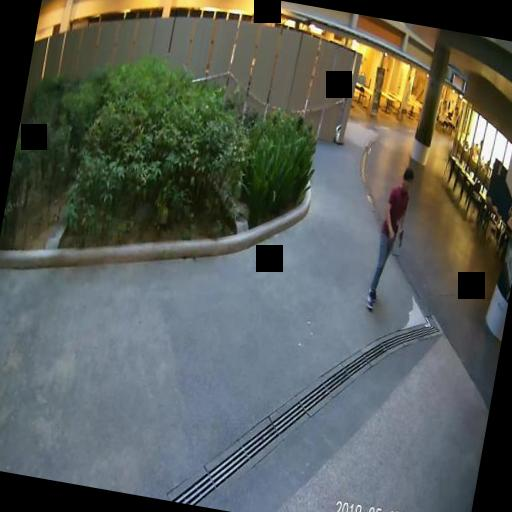Handgun: (395, 226, 403, 246)
